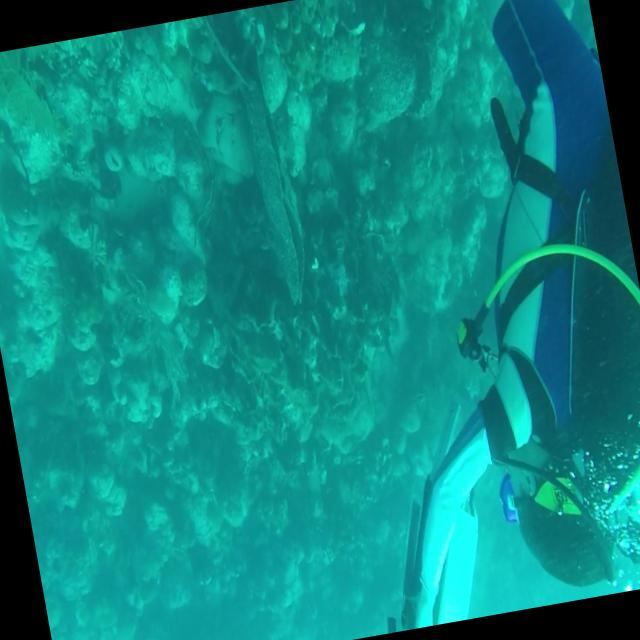human: (273, 0, 640, 633)
